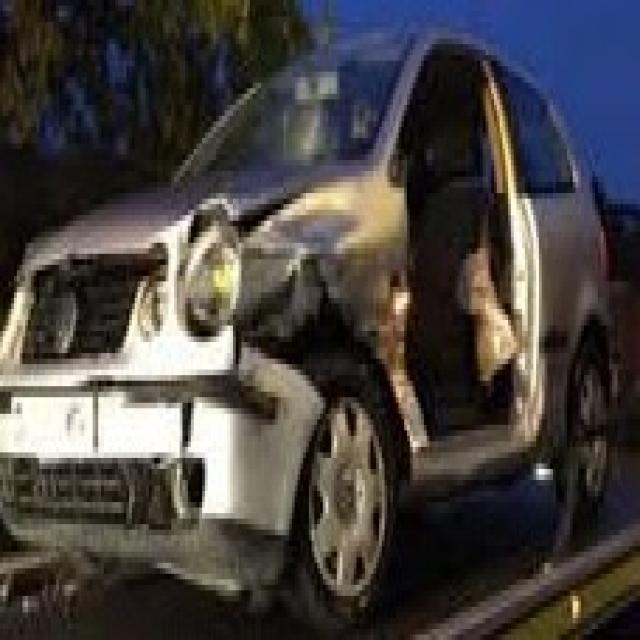moderate: (0, 70, 568, 576)
